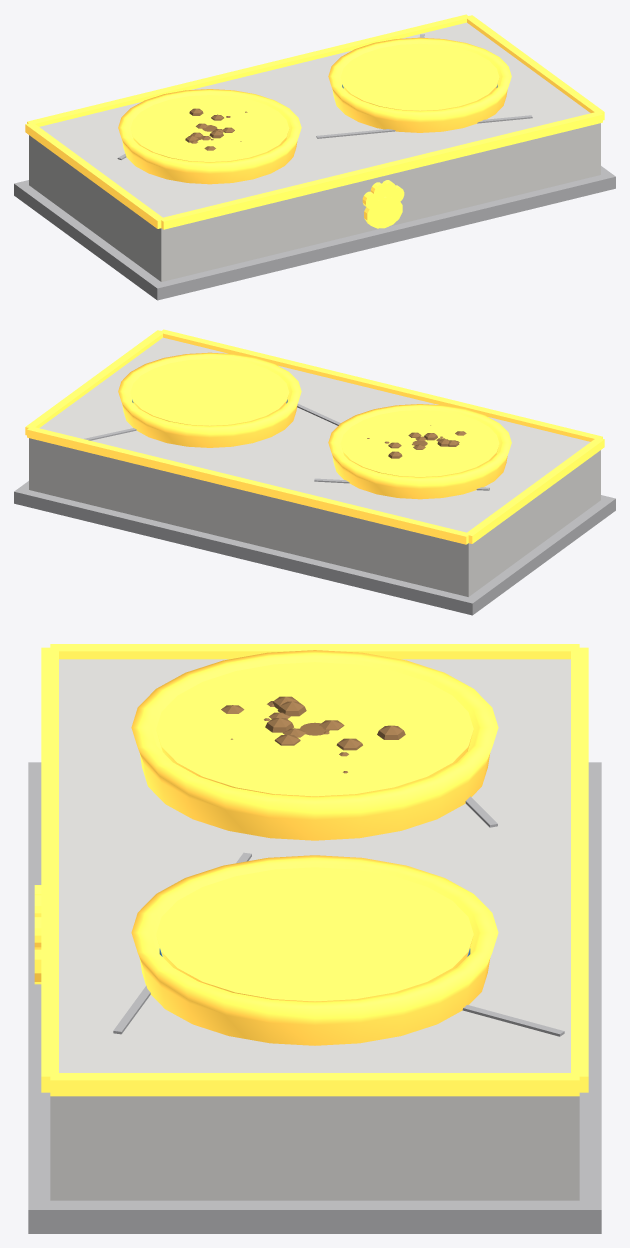
The model's file is lux_cat_bowls.glb.
3 renders of one model, top to bottom at view 1: azimuth 30°, elevation 25°; view 2: azimuth 150°, elevation 25°; view 3: azimuth 270°, elevation 25°, orthographic. The views are drawn at different scales.
Visible parts, largest first — view 1: lux_cat_bowls; view 2: lux_cat_bowls; view 3: lux_cat_bowls.
Part boxes in pixels (bbox=[...]): lux_cat_bowls: bbox=[14, 14, 615, 300]; lux_cat_bowls: bbox=[14, 329, 615, 615]; lux_cat_bowls: bbox=[28, 644, 601, 1233].
Bounding box in the file's own units: 0.6 × 0.1174 × 0.325.
